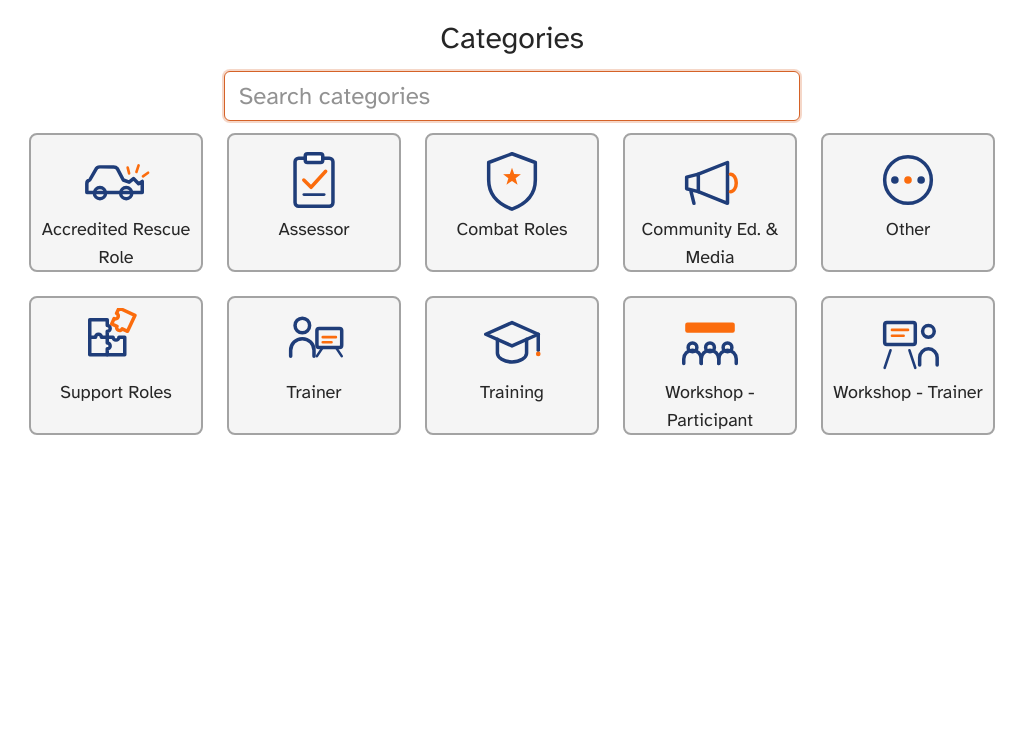
it: ScanScreenCategories search › goes back to the tiles when the search is cleared, and on a laptop typing carries on
This screenshot has width=1024, height=752.
In the search field: coordinates (512, 96) [224,71,800,121], type "stor"
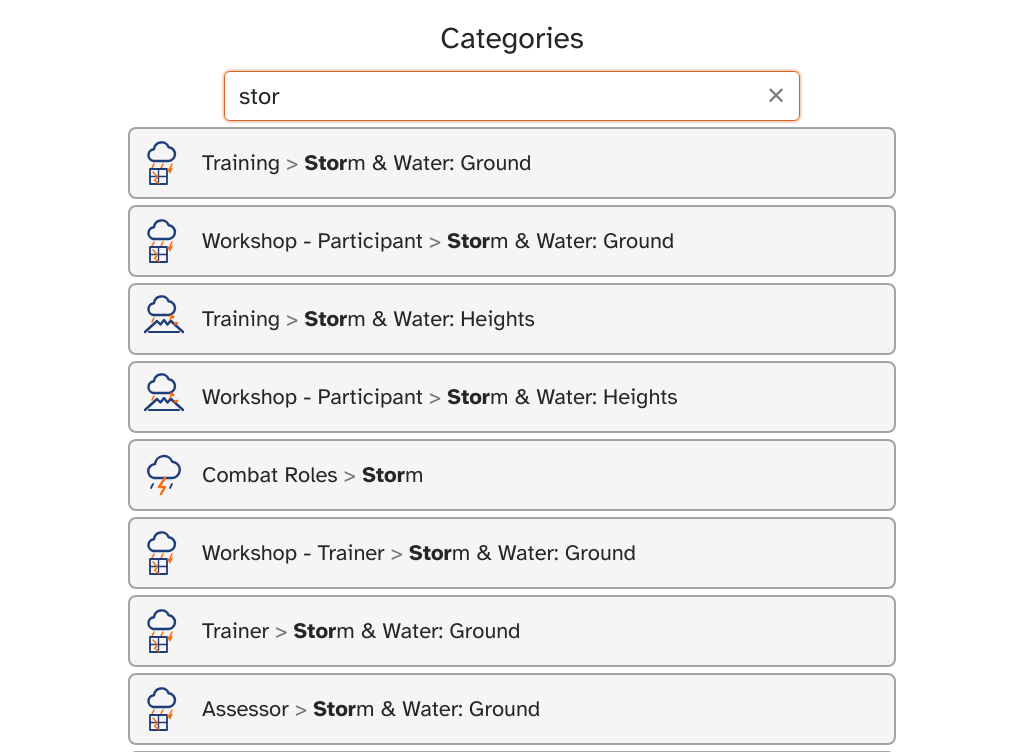
Click the button named "Clear search": coordinates (776, 96) [752,71,800,121]
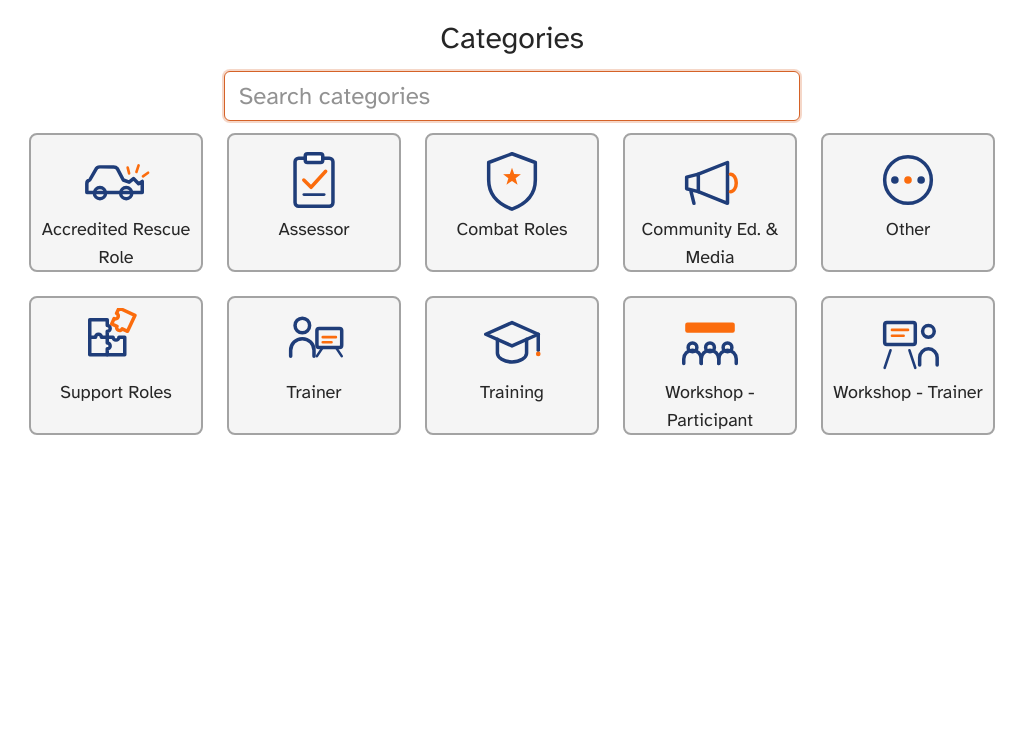
Check: the button "Training" is shown, box [425,296,599,435]
Check: the search field is empty, box [224,71,800,121]
Type keys "first"
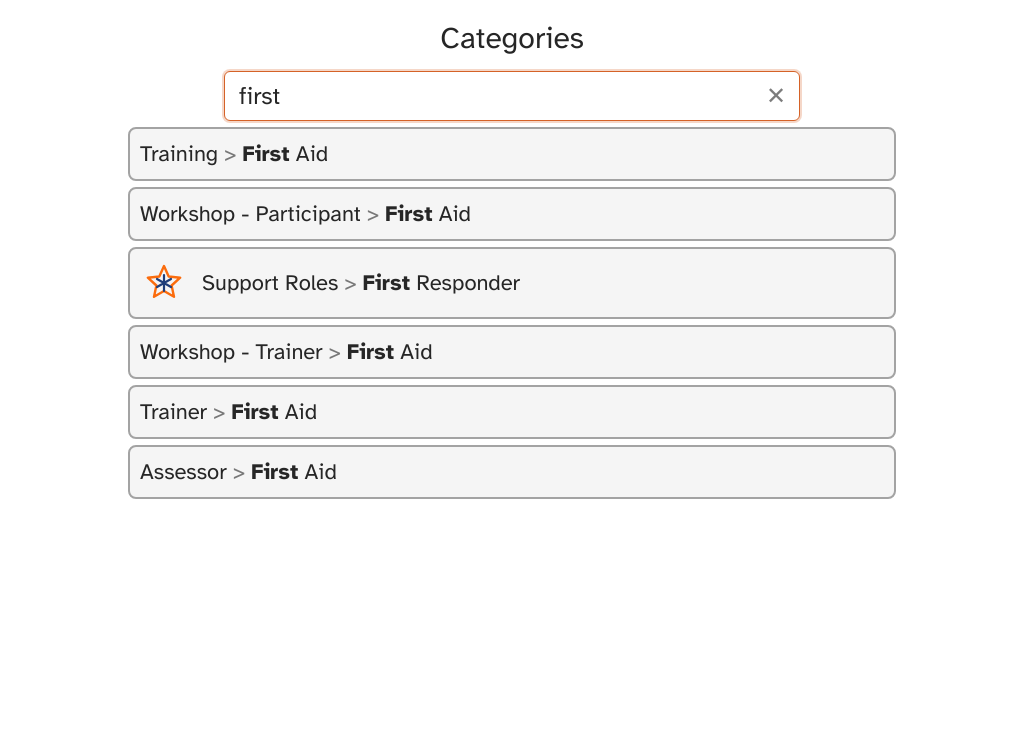
Check: the search field holds "first", box [224,71,800,121]
